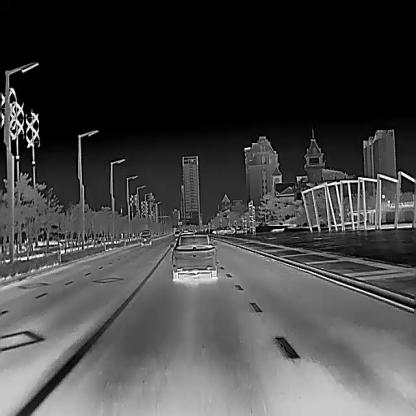car: (170, 232, 219, 280), (140, 228, 151, 246), (174, 230, 180, 236)
